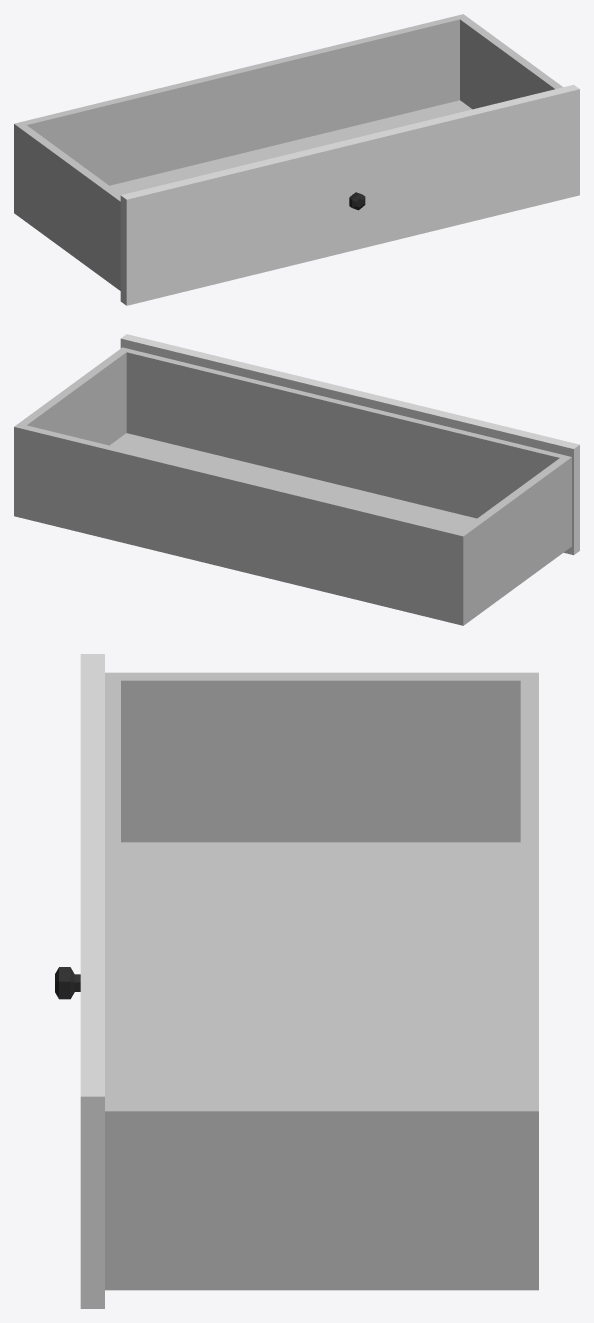
The model's file is Dresser3_C3_02.fbx.
The picture shows the model from 3 angles, top to bottom: view 1: azimuth 30°, elevation 25°; view 2: azimuth 150°, elevation 25°; view 3: azimuth 270°, elevation 25°; orthographic projection. The views are drawn at different scales.
Parts seen in each view (by area): view 1: Dresser3_C3_02; view 2: Dresser3_C3_02; view 3: Dresser3_C3_02.
Part boxes in pixels (left/top/right/bottom): Dresser3_C3_02: left=14, top=14, right=579, bottom=305; Dresser3_C3_02: left=14, top=334, right=579, bottom=625; Dresser3_C3_02: left=55, top=654, right=538, bottom=1308.
Size of the model in its own units: 85.7 by 19.18 by 39.65.
